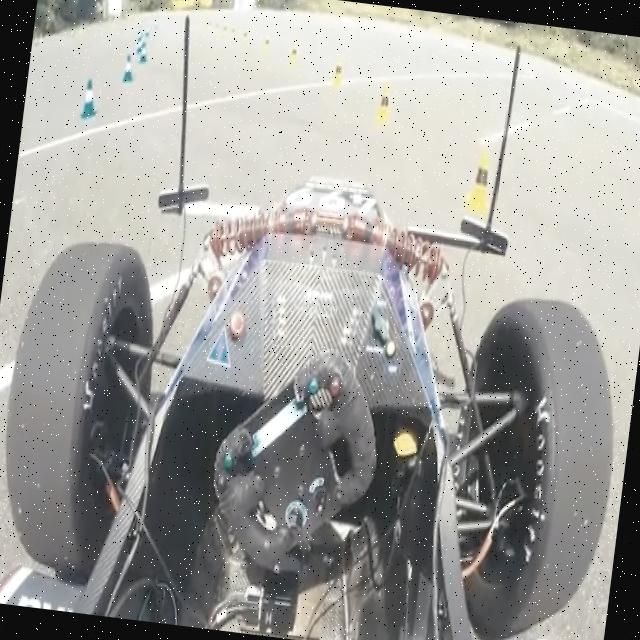blue_cone: (68, 66, 110, 122), (111, 42, 141, 94)
yellow_cone: (452, 127, 509, 222), (366, 82, 401, 130), (324, 46, 346, 122), (282, 31, 312, 68)
